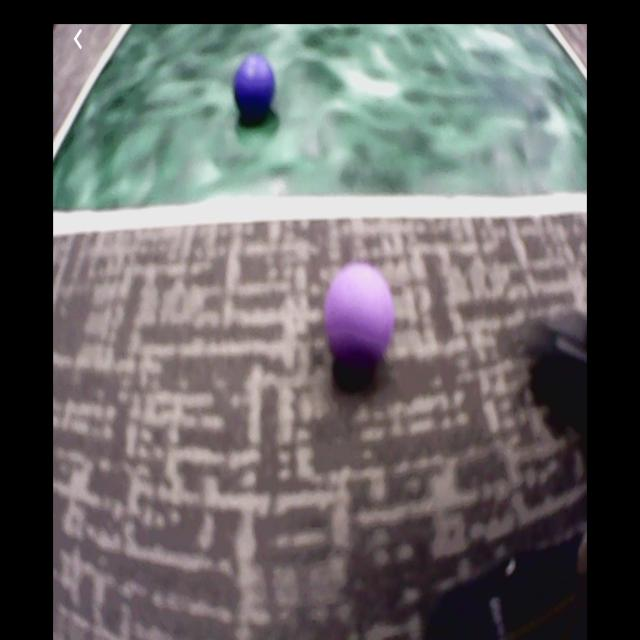ball: (328, 267, 394, 358), (236, 59, 275, 114)
